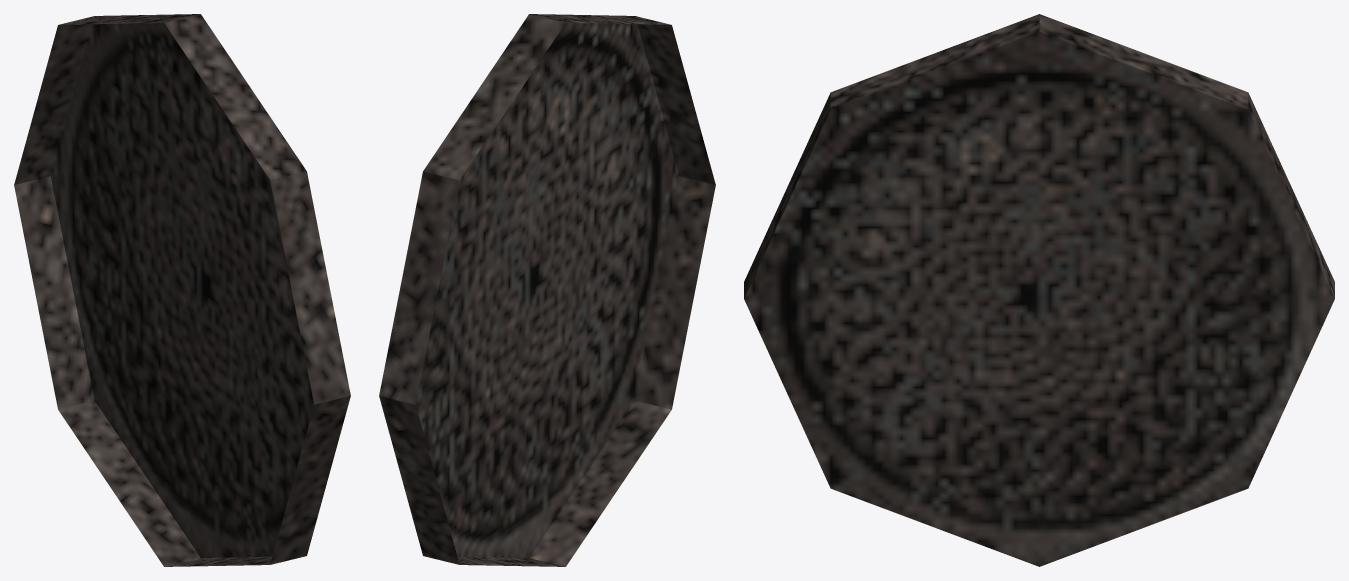
Rendered from Crypt_Button_Lars.fbx.
The picture shows the model from 3 angles, left to right: view 1: azimuth 30°, elevation 25°; view 2: azimuth 150°, elevation 25°; view 3: azimuth 270°, elevation 25°; orthographic projection.
Visible parts, largest first — view 1: Crypt_Button; view 2: Crypt_Button; view 3: Crypt_Button.
Part boxes in pixels (x1,y1,x2,y2): Crypt_Button: [14, 14, 350, 566]; Crypt_Button: [379, 14, 715, 566]; Crypt_Button: [744, 14, 1334, 566].
Bounding box in the file's own units: 10.89 × 154 × 154.
